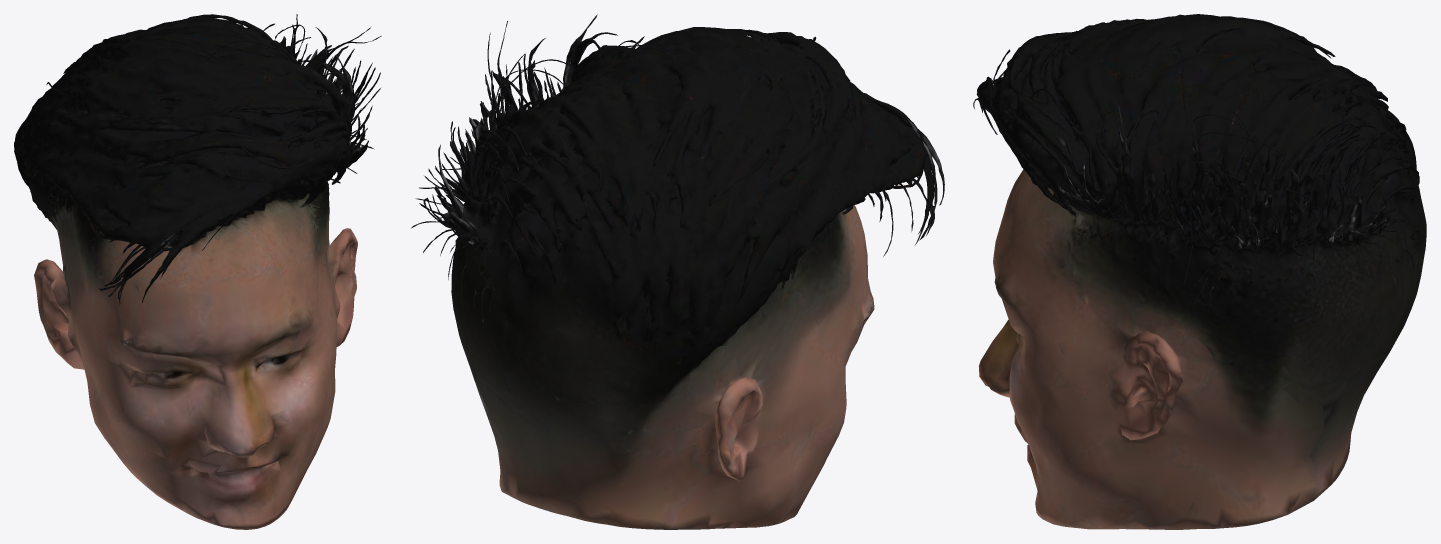
File: head_david.glb
3 views of the same model, side by side, from view 1: azimuth 30°, elevation 25°; view 2: azimuth 150°, elevation 25°; view 3: azimuth 270°, elevation 25° (orthographic). The views are drawn at different scales.
Visible parts, largest first — view 1: David; view 2: David; view 3: David.
Part boxes in pixels (x1,y1,x2,y2): David: (14, 14, 381, 529); David: (411, 14, 944, 529); David: (973, 14, 1426, 529).
Size of the model in its own units: 0.2069 by 0.2501 by 0.2141.
1 material, 1 textured.
